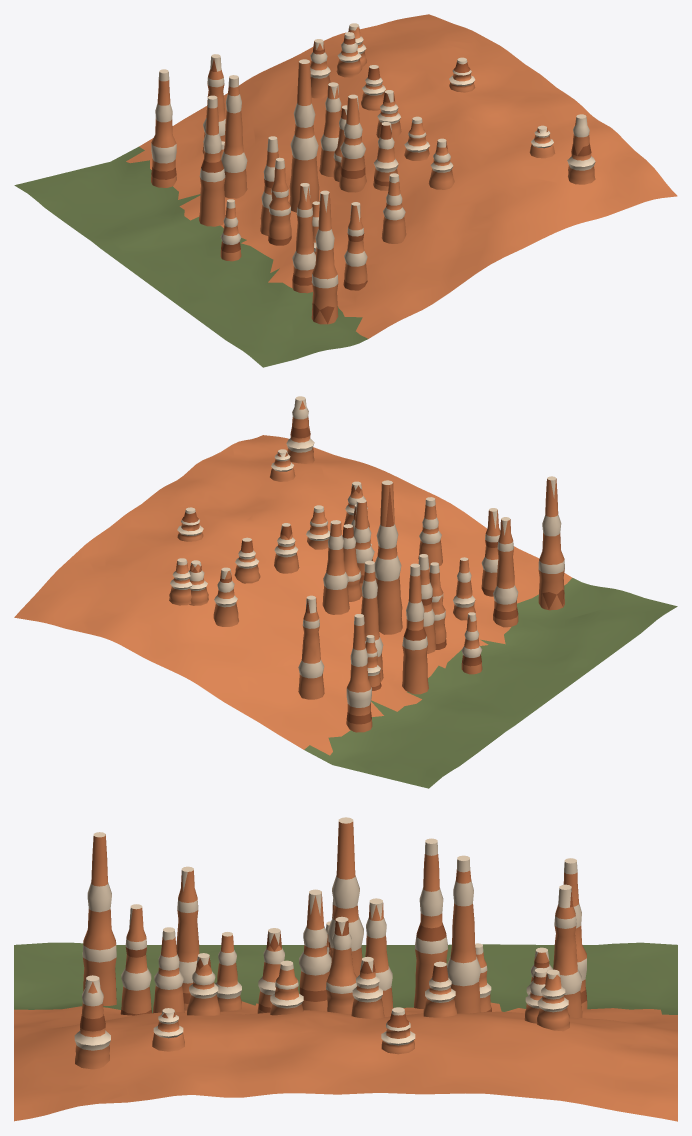
The model's file is landmark-hoodoos-mid.glb.
The picture shows the model from 3 angles, top to bottom: view 1: azimuth 30°, elevation 25°; view 2: azimuth 150°, elevation 25°; view 3: azimuth 270°, elevation 25°; orthographic projection. The views are drawn at different scales.
Parts seen in each view (by area): view 1: hoodoos.001; view 2: hoodoos.001; view 3: hoodoos.001.
Part boxes in pixels (x1=…): hoodoos.001: x1=14, y1=14, x2=677, y2=367; hoodoos.001: x1=14, y1=396, x2=677, y2=788; hoodoos.001: x1=14, y1=817, x2=677, y2=1121.
Bounding box in the file's own units: 2.49 × 1 × 2.59.
